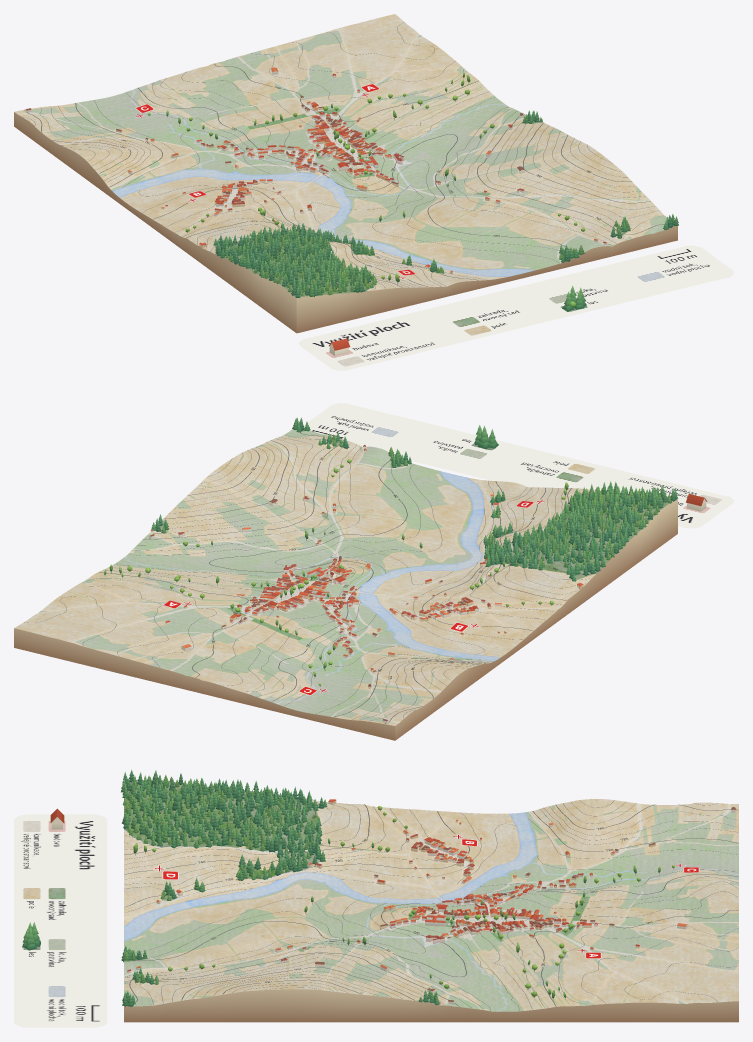
Rendered from Frymburk_sada2_otazka2.glb.
The picture shows the model from 3 angles, top to bottom: view 1: azimuth 30°, elevation 25°; view 2: azimuth 150°, elevation 25°; view 3: azimuth 270°, elevation 25°; orthographic projection. The views are drawn at different scales.
Visible parts, largest first — view 1: DMR_SMO5, legenda_panel, stromy_SMO5, vrstevnice, budovy_SMO5, legenda_objekty; view 2: DMR_SMO5, legenda_panel, stromy_SMO5, vrstevnice, budovy_SMO5, legenda_objekty; view 3: DMR_SMO5, legenda_panel, stromy_SMO5, vrstevnice, budovy_SMO5, legenda_objekty.
Part boxes in pixels (x1,y1,x2,y2): DMR_SMO5: (14,14,677,333); legenda_panel: (299,245,733,370); stromy_SMO5: (147,72,678,297); vrstevnice: (23,22,664,296); budovy_SMO5: (25,67,607,273); legenda_objekty: (329,285,586,356); DMR_SMO5: (14,429,677,740); legenda_panel: (303,403,733,528); stromy_SMO5: (104,417,677,686); vrstevnice: (24,430,648,723); budovy_SMO5: (149,445,583,722); legenda_objekty: (474,425,707,511); DMR_SMO5: (124,780,738,1022); legenda_panel: (14,814,107,1027); stromy_SMO5: (121,769,674,1006); vrstevnice: (124,790,738,1010); budovy_SMO5: (126,799,735,1005); legenda_objekty: (22,808,64,950).
Bounding box in the file's own units: 1490 × 186 × 2140.
13 materials, 7 textured.
